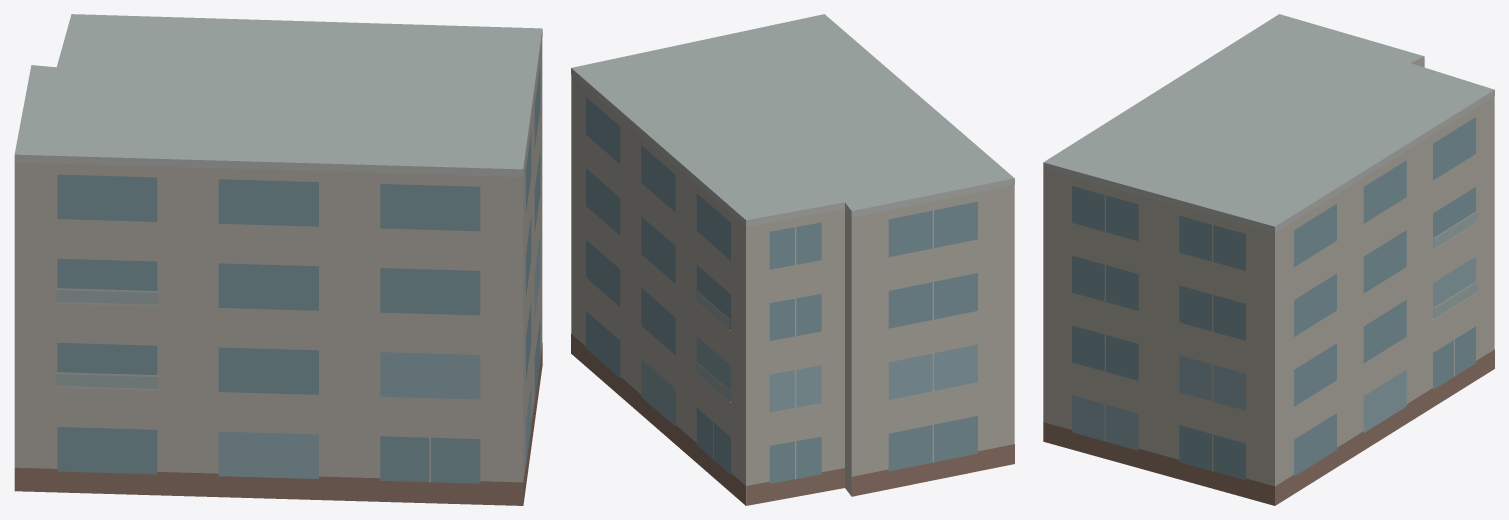
File: survey-upis-32724944.glb
3 renders of one model, left to right at view 1: azimuth 30°, elevation 25°; view 2: azimuth 150°, elevation 25°; view 3: azimuth 270°, elevation 25°, orthographic. The views are drawn at different scales.
Parts seen in each view (by area): view 1: survey-upis-32724944.tmp; view 2: survey-upis-32724944.tmp; view 3: survey-upis-32724944.tmp.
Boxes of the visible parts, x1,y1,x2,y2 form: survey-upis-32724944.tmp: (14,14,542,505); survey-upis-32724944.tmp: (571,14,1014,505); survey-upis-32724944.tmp: (1043,14,1494,505).
Size of the model in its own units: 17.33 by 10.6 by 15.54.
